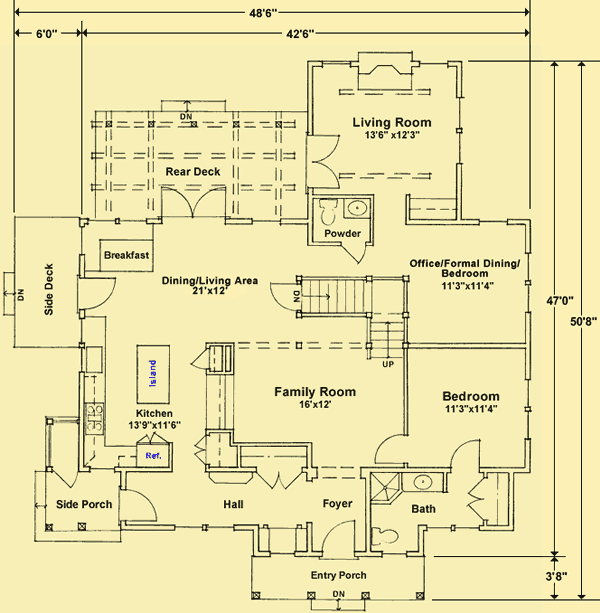door: (156, 181, 232, 225), (301, 130, 344, 191), (316, 518, 364, 564), (72, 273, 121, 315), (116, 486, 159, 527), (461, 473, 491, 528), (370, 432, 412, 469), (264, 278, 304, 313), (448, 435, 482, 476), (258, 463, 302, 492), (50, 464, 83, 492), (338, 238, 370, 266), (192, 428, 211, 469), (189, 344, 212, 377)
large sink: (314, 194, 341, 227), (370, 523, 400, 549)
small sink: (402, 473, 445, 496), (340, 196, 373, 223)
stairs: (296, 273, 411, 367)
